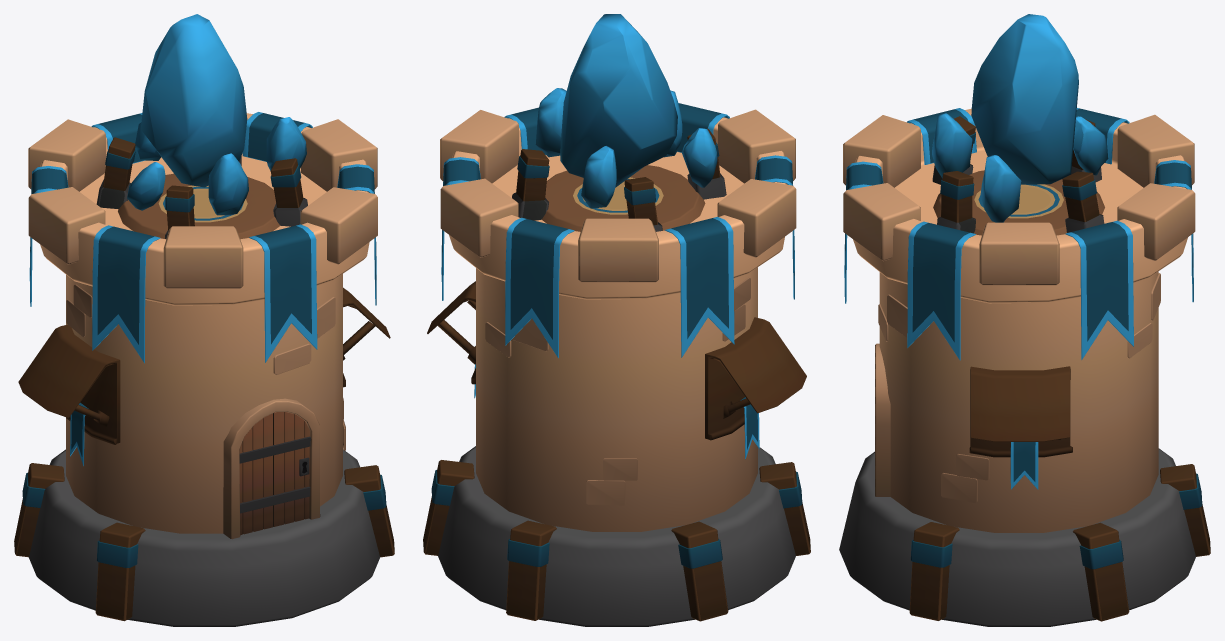
Rendered from TowerWatch_8.fbx.
3 renders of one model, left to right at view 1: azimuth 30°, elevation 25°; view 2: azimuth 150°, elevation 25°; view 3: azimuth 270°, elevation 25°, orthographic.
Visible parts, largest first — view 1: TowerWatch_8, Cristal_2; view 2: TowerWatch_8, Cristal_2; view 3: TowerWatch_8, Cristal_2.
Part boxes in pixels (bbox=[...]): TowerWatch_8: bbox=[14, 112, 394, 626]; Cristal_2: bbox=[127, 14, 306, 215]; TowerWatch_8: bbox=[423, 103, 810, 626]; Cristal_2: bbox=[535, 14, 717, 208]; TowerWatch_8: bbox=[839, 108, 1210, 626]; Cristal_2: bbox=[932, 14, 1108, 222].
Bounding box in the file's own units: 302 × 449 × 284.
